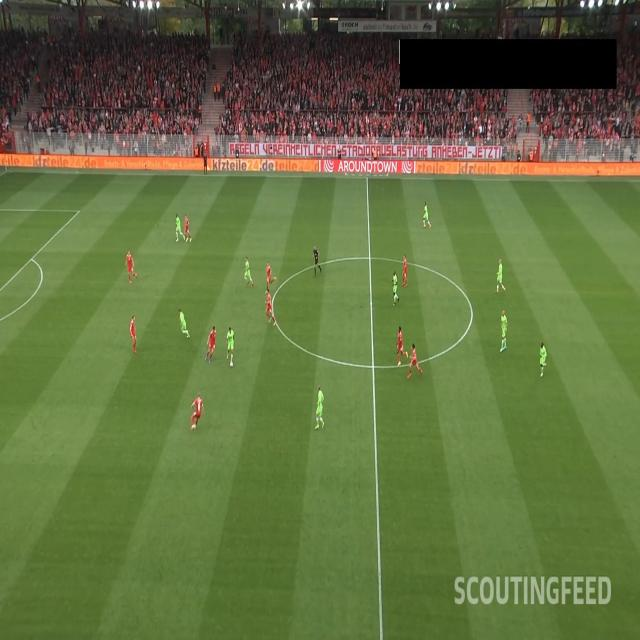ball: (230, 361, 234, 368)
